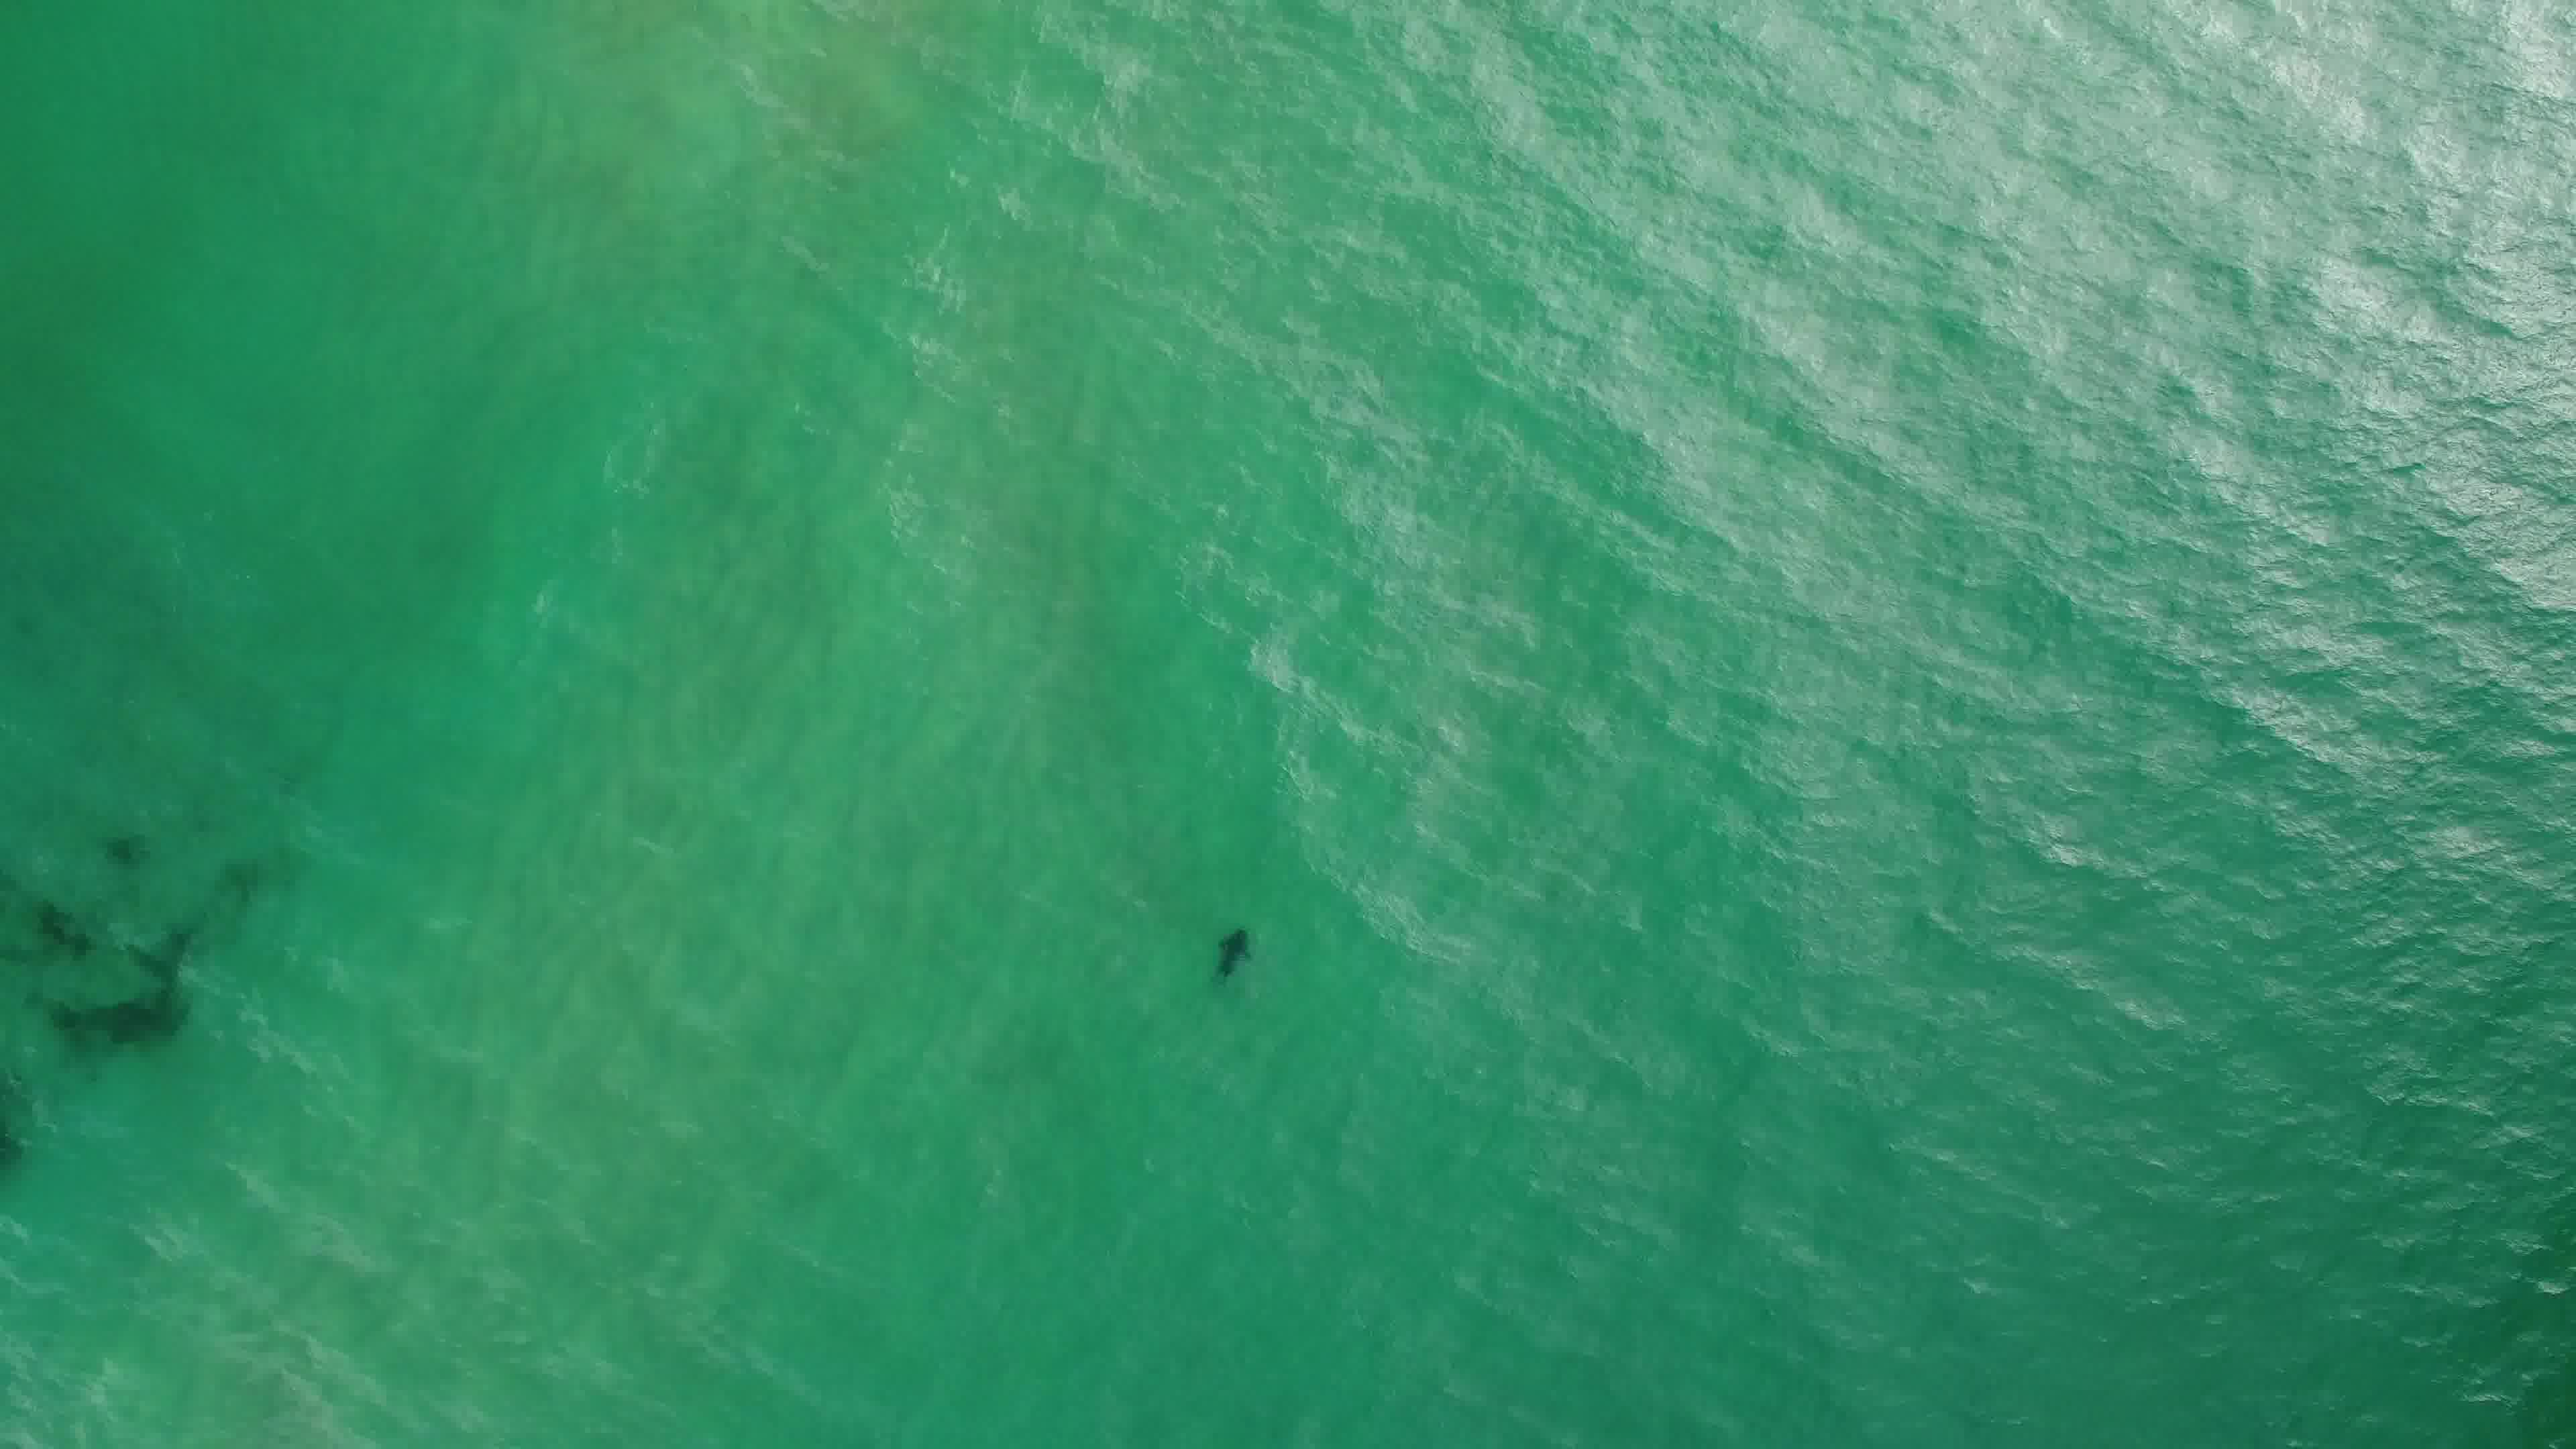shark: (1210, 922, 1260, 994)
